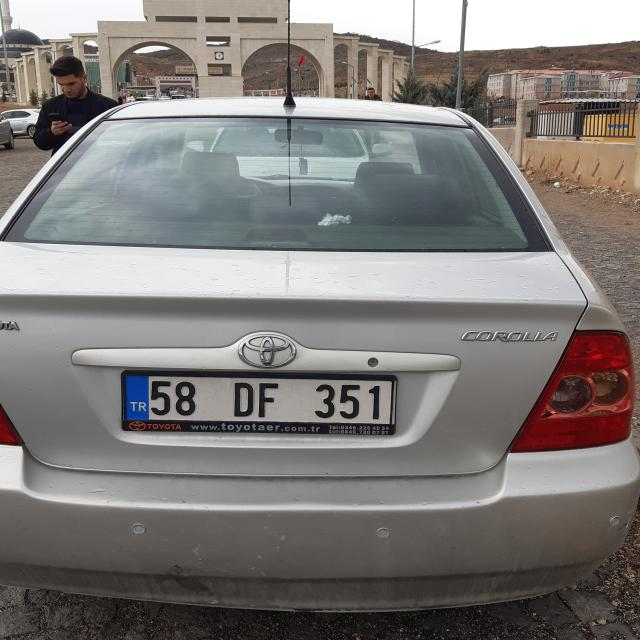license_plate: (124, 371, 395, 426)
